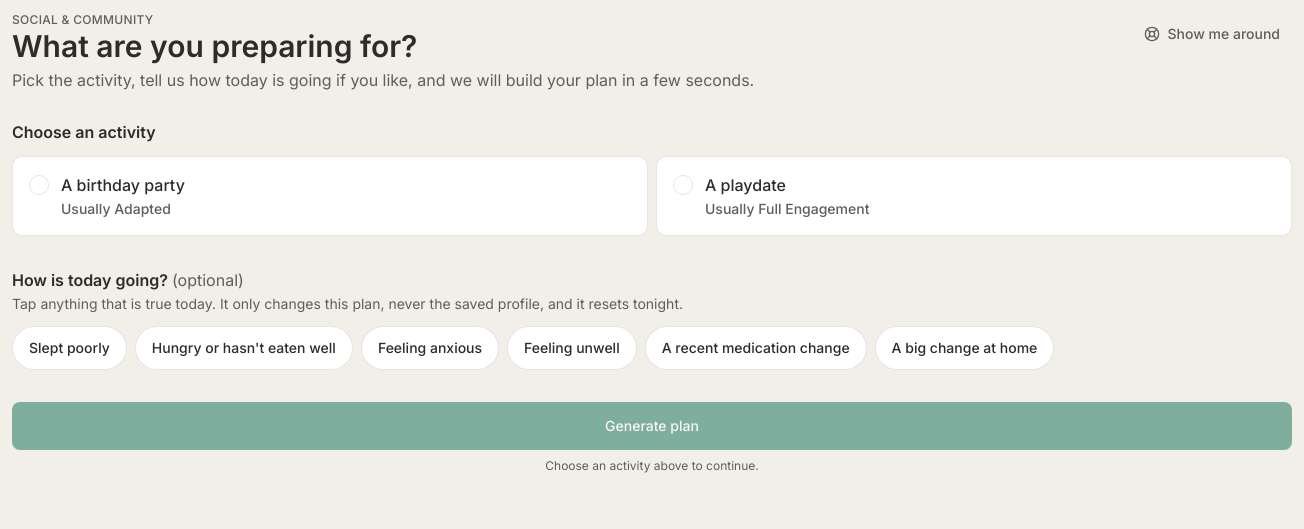
Test case: PlanScreen prepare flow › surfaces an inline error when preparing the plan fails (never swallowed)
Expected: the text "A birthday party" is shown, x1=61 y1=173 x2=185 y2=197
Click the button "A playdate Usually Full Engagement": click(745, 185) x1=656 y1=156 x2=1292 y2=236
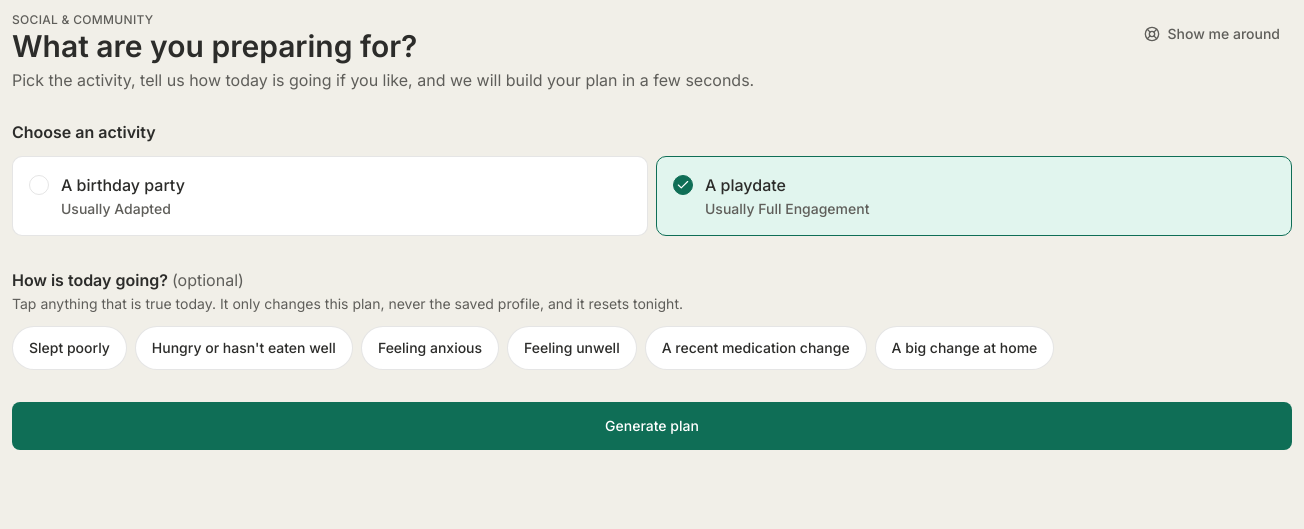
Click the button "Generate plan": click(652, 426) x1=12 y1=402 x2=1292 y2=450
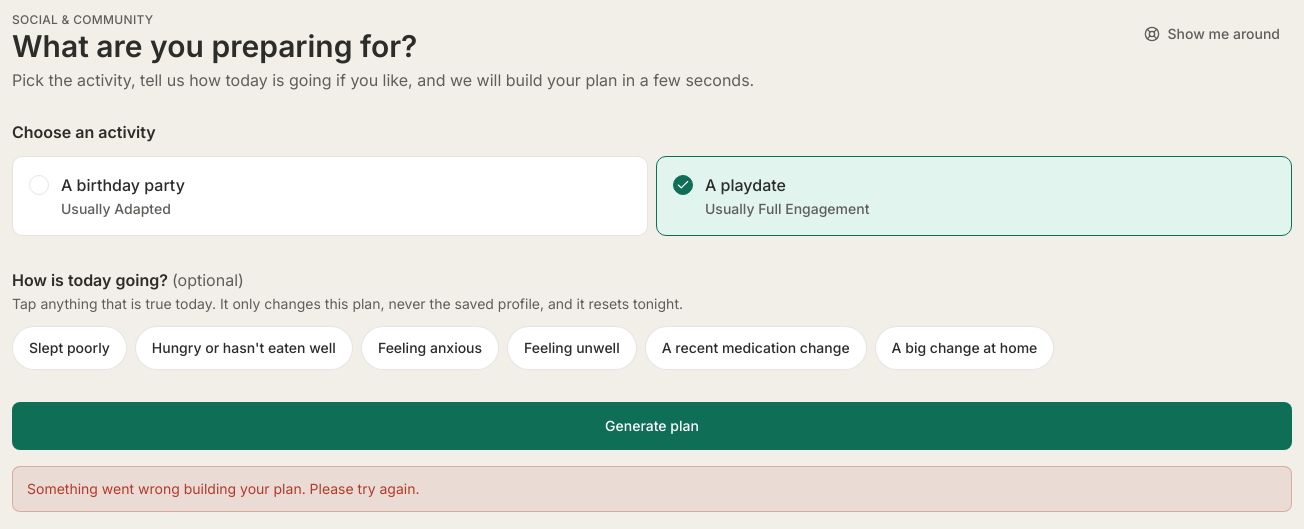
Expected: the message reads "Something went wrong building your plan. Please try again.", x1=27 y1=480 x2=420 y2=497
